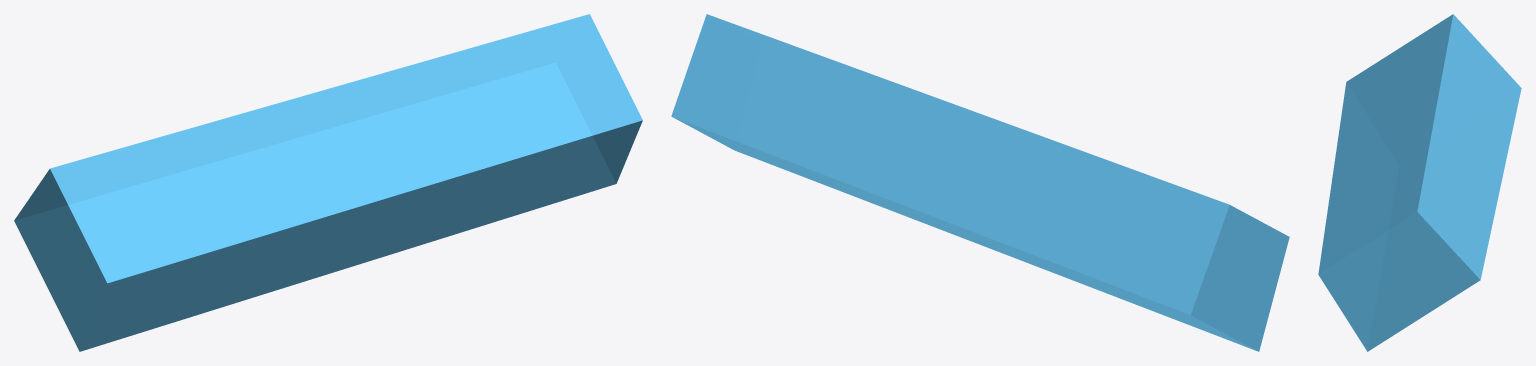
The model's file is Event_421115418_HErechit_35.fbx.
3 views of the same model, side by side, from view 1: azimuth 30°, elevation 25°; view 2: azimuth 150°, elevation 25°; view 3: azimuth 270°, elevation 25° (orthographic). The views are drawn at different scales.
Parts seen in each view (by area): view 1: Model; view 2: Model; view 3: Model.
Boxes of the visible parts, box(x1,y1,x2,y2) form: Model: box(14, 14, 642, 351); Model: box(671, 14, 1289, 351); Model: box(1318, 14, 1521, 351).
Bounding box in the file's own units: 0.8199 × 0.3072 × 0.2976.
